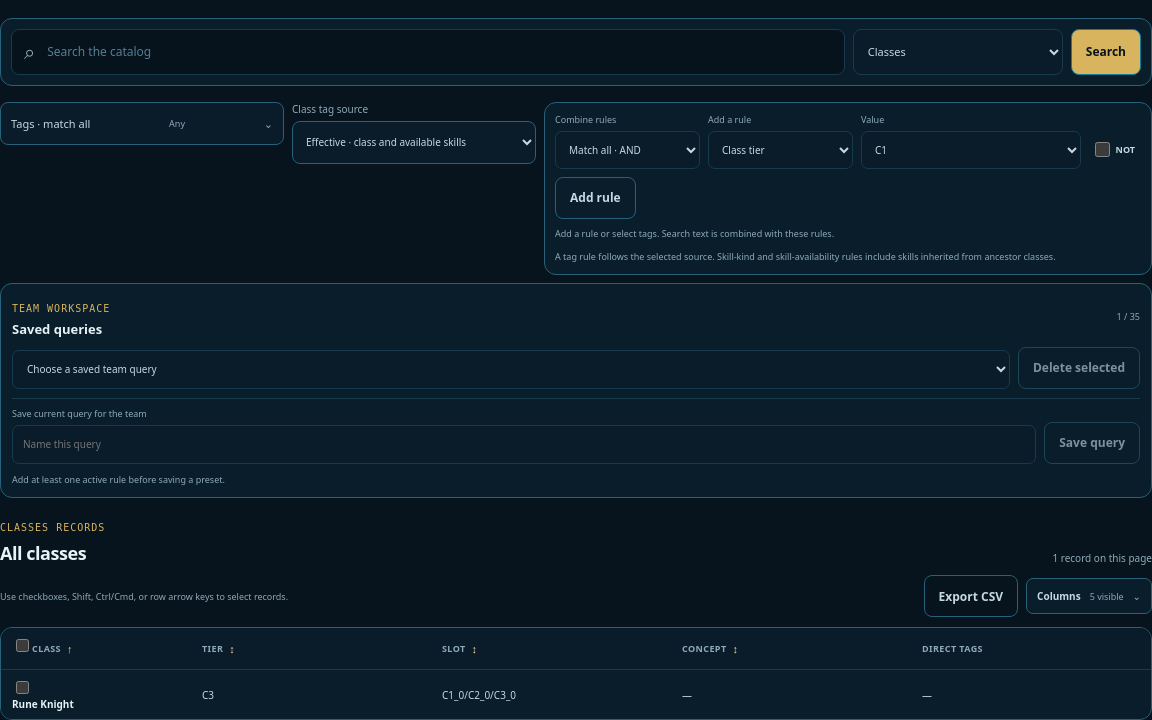
Database class tag queries › wires table selection to the audited batch-tag panel
(page scrolled)
Click the checkbox named "Select Rune Knight": (22, 688) [16, 681, 29, 694]
(page scrolled)
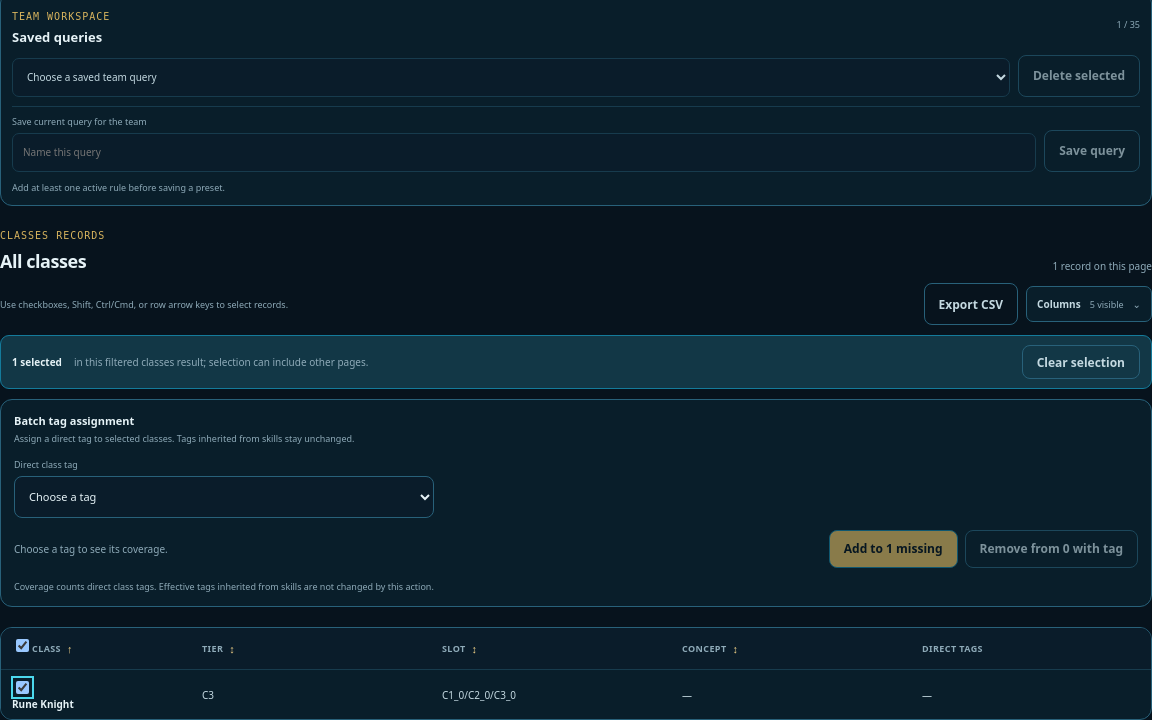
Select "HEAL" in the dropdown labelled "Direct class tag": (224, 497) [14, 476, 434, 518]
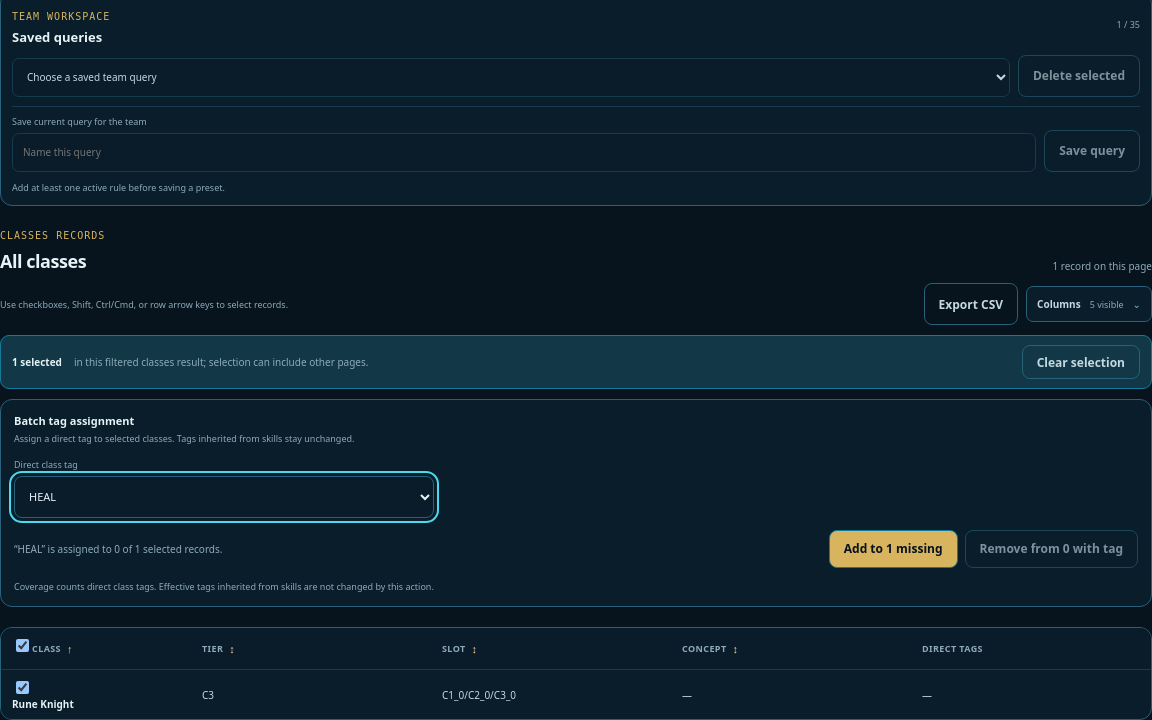
Expected: the text "Tags inherited from skills stay unchanged" is shown, [14, 432, 354, 445]
Expected: the text "“HEAL” is assigned to 0 of 1 selected records." is shown, [14, 542, 222, 556]
Click the button "Add to 1 missing": (893, 549) [829, 530, 958, 568]
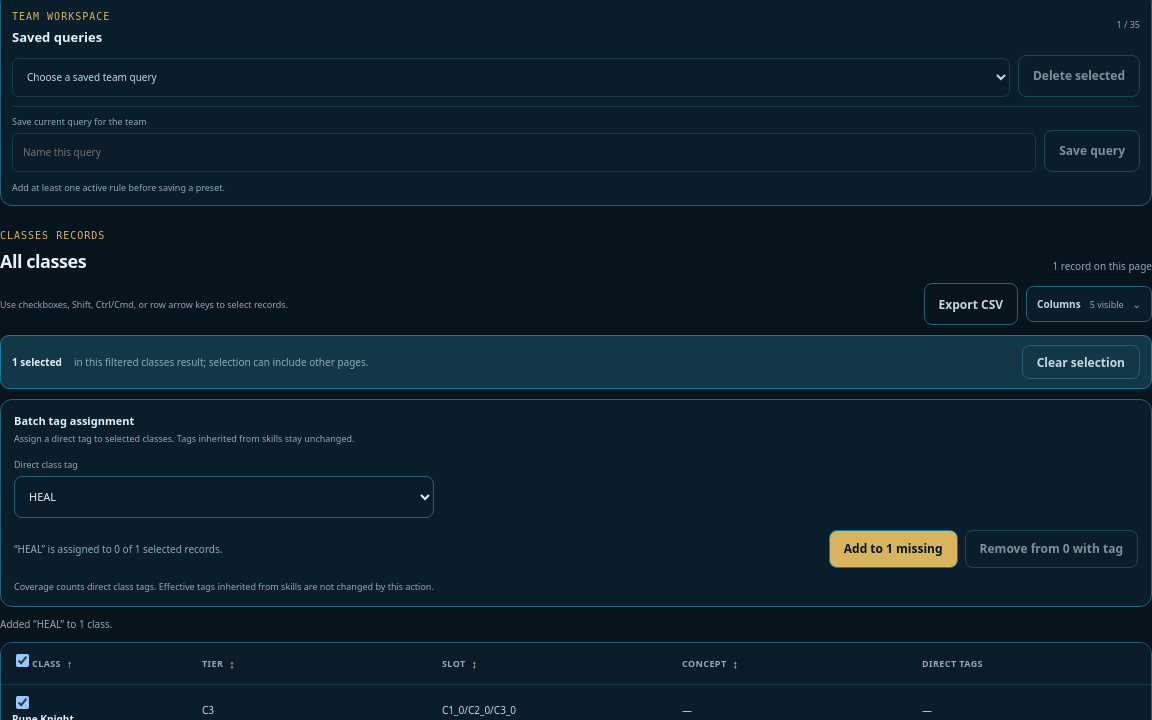
Expected: the text "Added “HEAL” to 1 class." is shown, [0, 617, 112, 631]
